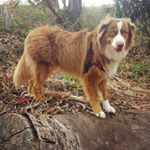puppy: (75, 13, 141, 121)
